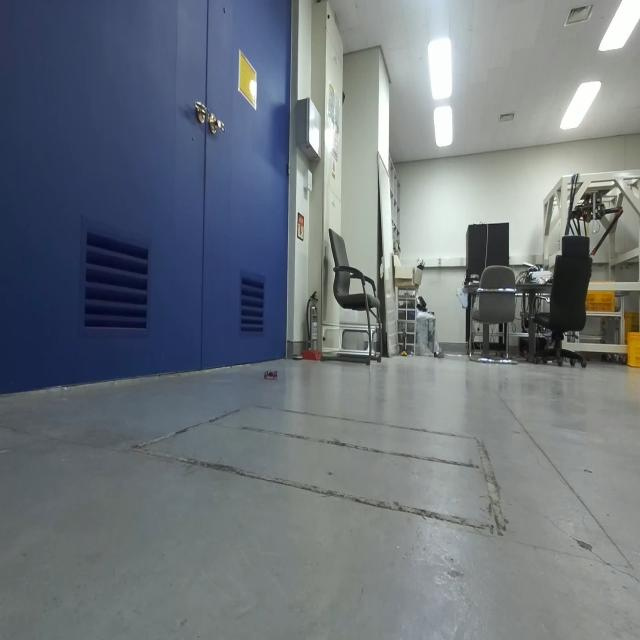crazyflie: (258, 365, 280, 383)
